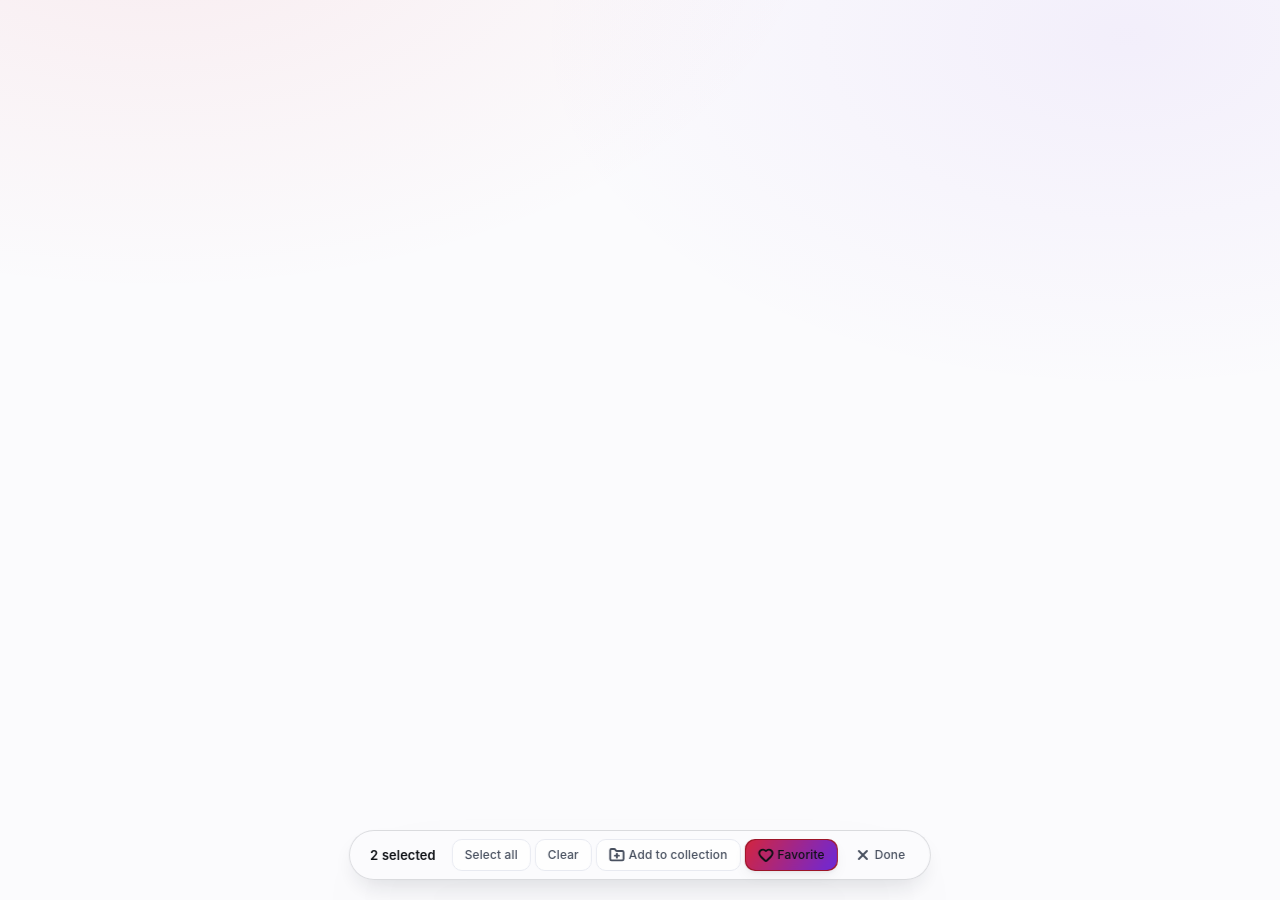
Test case: bulk add opens the collection picker for the whole selection
Click the button "Add to collection" at (668, 855), box 596,839 -> 740,871
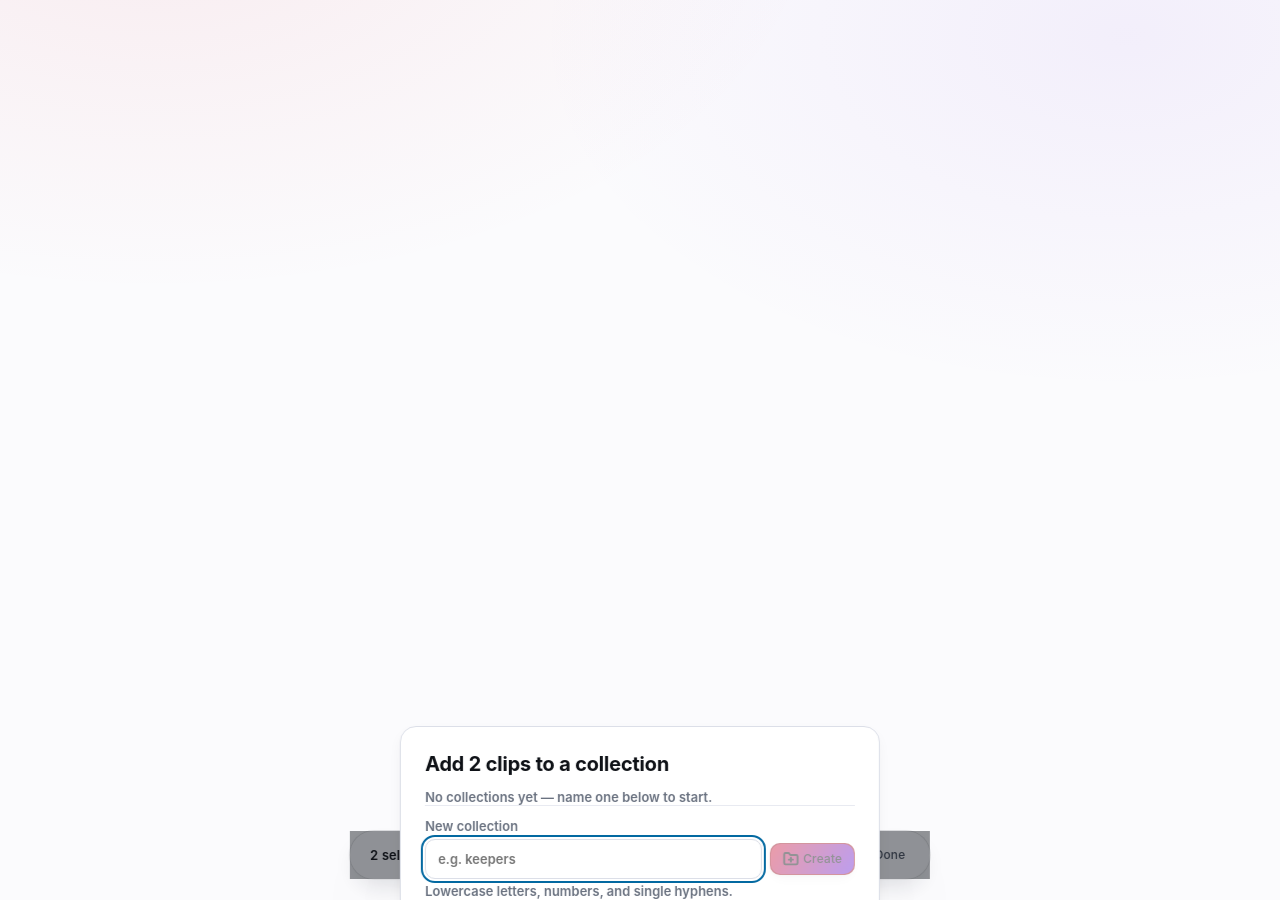
Result: the heading "Add 2 clips to a collection" is shown at 425,752 -> 669,776
